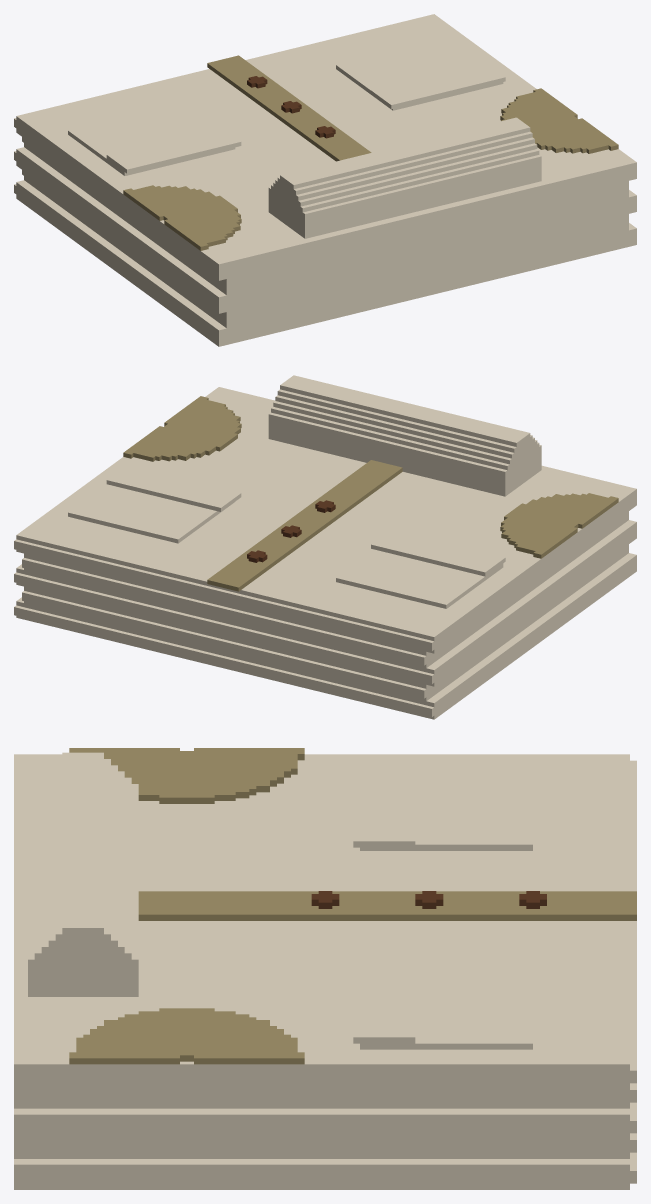
File: sleeveless_duster_faux_fur.glb
3 renders of one model, top to bottom at view 1: azimuth 30°, elevation 25°; view 2: azimuth 150°, elevation 25°; view 3: azimuth 270°, elevation 25°, orthographic. The views are drawn at different scales.
Visible parts, largest first — view 1: sleeveless_duster_faux_fur:compound; view 2: sleeveless_duster_faux_fur:compound; view 3: sleeveless_duster_faux_fur:compound.
Part boxes in pixels (x1=…): sleeveless_duster_faux_fur:compound: x1=14, y1=14, x2=636, y2=346; sleeveless_duster_faux_fur:compound: x1=14, y1=375, x2=636, y2=719; sleeveless_duster_faux_fur:compound: x1=14, y1=748, x2=636, y2=1189.
Size of the model in its own units: 0.424 by 0.124 by 0.36.
